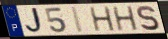5: (43, 7, 68, 34)
H: (88, 6, 117, 33), (111, 5, 140, 32)
I: (70, 6, 85, 34)
J: (25, 7, 47, 35)
S: (135, 4, 160, 32)
